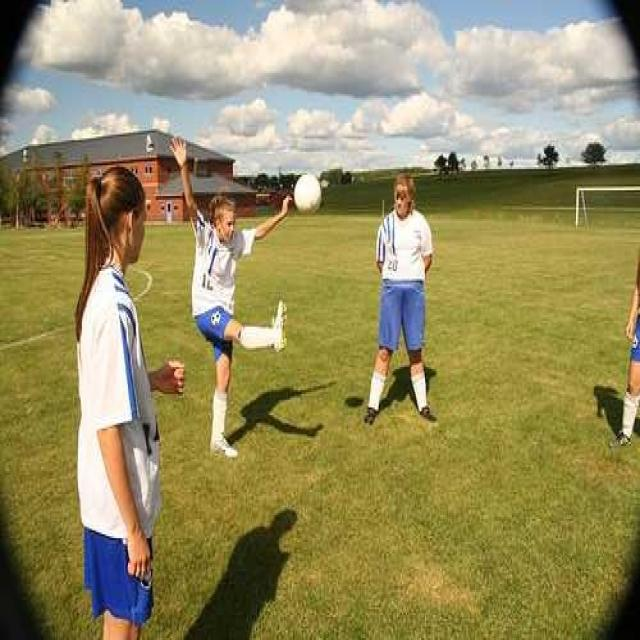ball: (294, 175, 323, 213)
